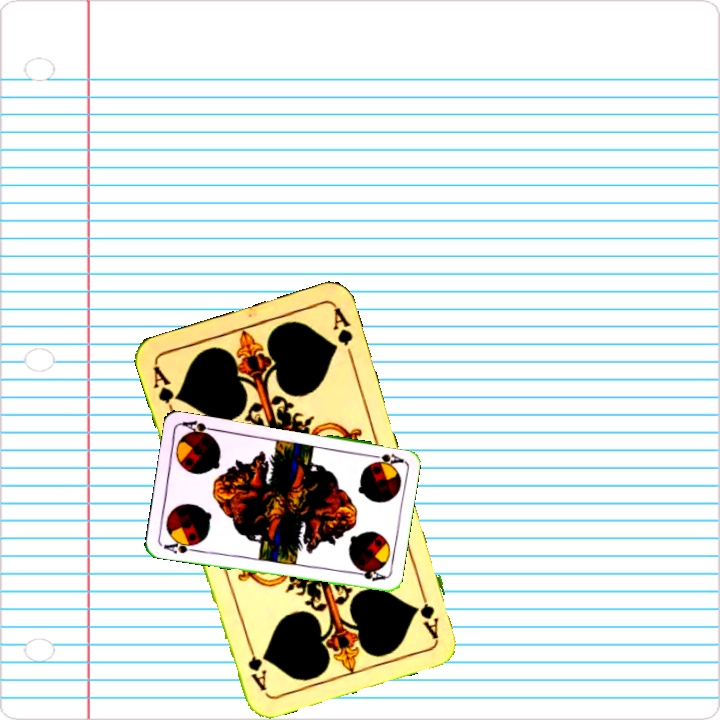GA: (149, 361, 182, 419), (414, 582, 441, 641)
SA: (160, 536, 201, 556), (364, 449, 405, 469)
